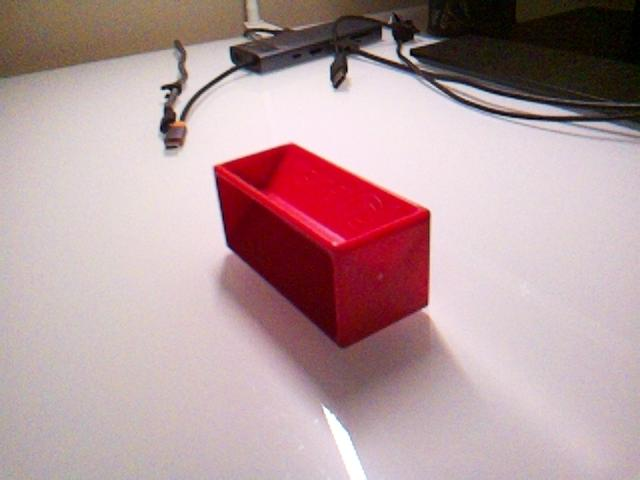red: (212, 141, 433, 348)
